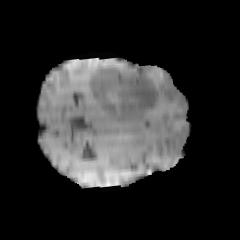glioma: (89, 67, 159, 119)
